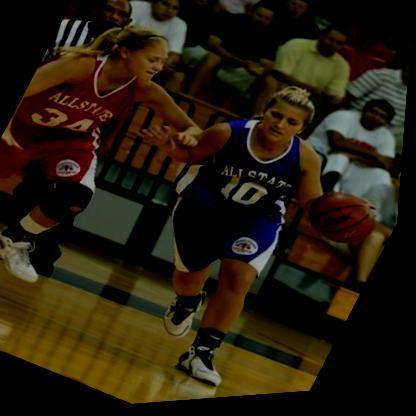basketball: (299, 182, 392, 265)
